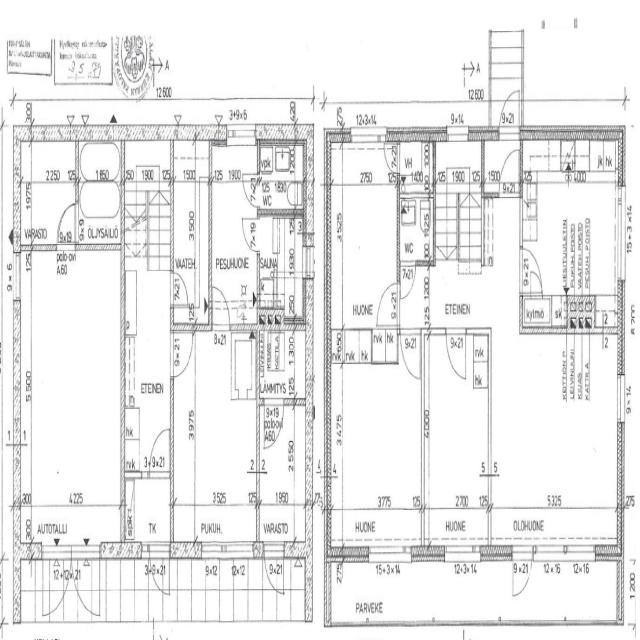door: (147, 424, 172, 478), (444, 326, 466, 384), (399, 327, 422, 381), (511, 545, 533, 600), (375, 278, 400, 326), (171, 327, 194, 379), (498, 144, 520, 196), (262, 544, 285, 592), (499, 86, 521, 136), (210, 281, 230, 336), (521, 247, 543, 295), (262, 400, 284, 448), (56, 199, 77, 246), (148, 545, 169, 591), (399, 259, 418, 303), (240, 213, 259, 253), (172, 268, 190, 310), (241, 172, 258, 208), (111, 140, 124, 171)
window: (23, 258, 36, 384), (614, 180, 628, 290), (365, 538, 413, 570), (418, 412, 433, 511), (206, 536, 257, 563), (443, 541, 483, 570), (348, 126, 386, 151), (564, 538, 596, 566), (563, 613, 605, 632), (533, 541, 566, 564), (11, 245, 22, 308), (226, 124, 257, 146), (616, 368, 626, 429), (445, 124, 471, 144)
zone: (24, 247, 124, 536), (329, 341, 424, 548), (174, 330, 259, 549), (423, 327, 492, 539), (522, 174, 622, 312), (329, 145, 399, 331), (122, 252, 174, 478), (210, 156, 258, 325), (172, 137, 210, 322), (258, 400, 309, 534), (21, 136, 77, 248), (257, 211, 306, 320), (567, 331, 622, 416), (123, 474, 173, 551), (257, 329, 305, 404), (77, 175, 122, 248), (258, 143, 306, 211), (433, 135, 484, 194), (398, 192, 433, 266), (124, 138, 170, 191), (397, 137, 433, 195), (230, 330, 258, 403), (77, 141, 122, 182), (521, 294, 554, 332), (341, 327, 373, 365), (547, 296, 567, 330)
